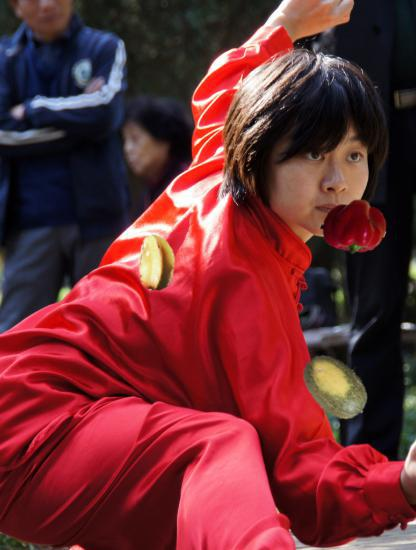Carambula: (129, 235, 186, 292)
Melon: (301, 347, 376, 422)
Pepper: (323, 194, 387, 258)
